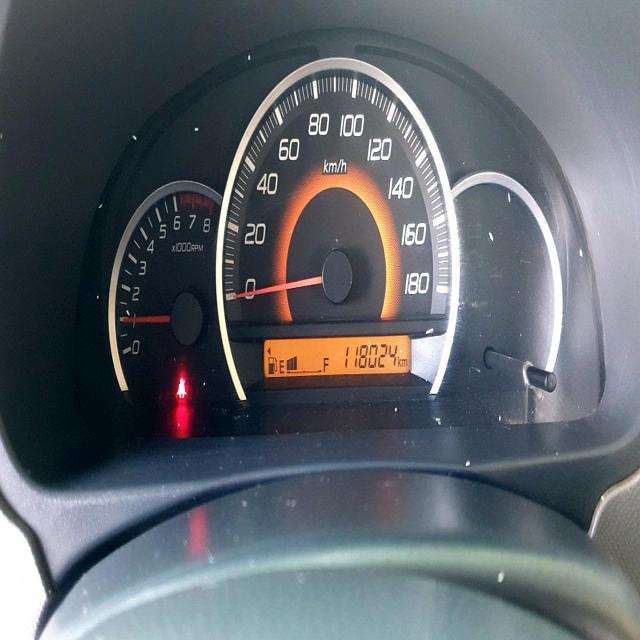odometer: (342, 342, 398, 369)
